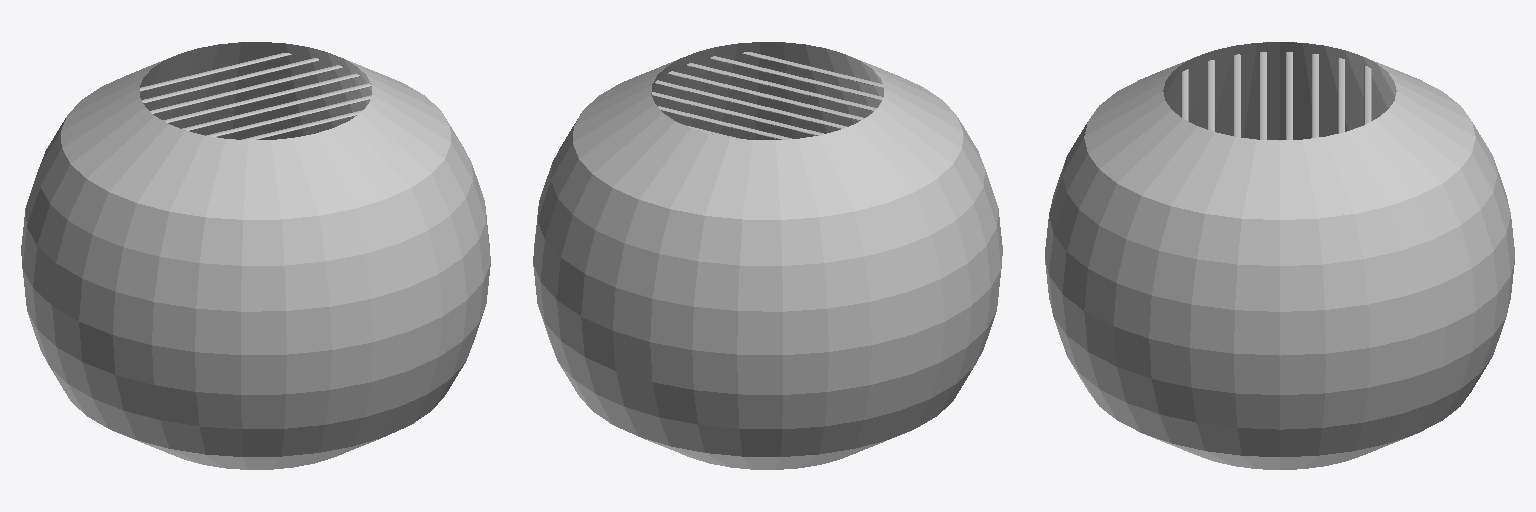
File: spottwotest.obj
The picture shows the model from 3 angles: view 1: azimuth 30°, elevation 25°; view 2: azimuth 150°, elevation 25°; view 3: azimuth 270°, elevation 25°; orthographic projection.
Visible parts, largest first — view 1: Sphere; view 2: Sphere; view 3: Sphere.
Part boxes in pixels (bbox=[...]): Sphere: bbox=[21, 42, 490, 469]; Sphere: bbox=[533, 42, 1002, 469]; Sphere: bbox=[1045, 42, 1514, 469].
Bounding box in the file's own units: 2 × 1.54 × 2.